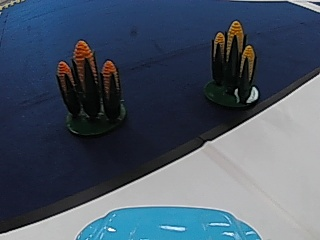corn: (54, 38, 127, 137), (205, 15, 260, 109)
